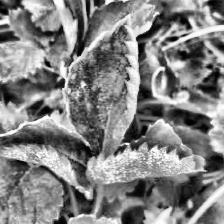Powdery Mildew Leaf: (62, 13, 140, 161), (84, 117, 209, 186), (0, 115, 94, 200), (79, 0, 160, 55), (47, 0, 87, 62)
